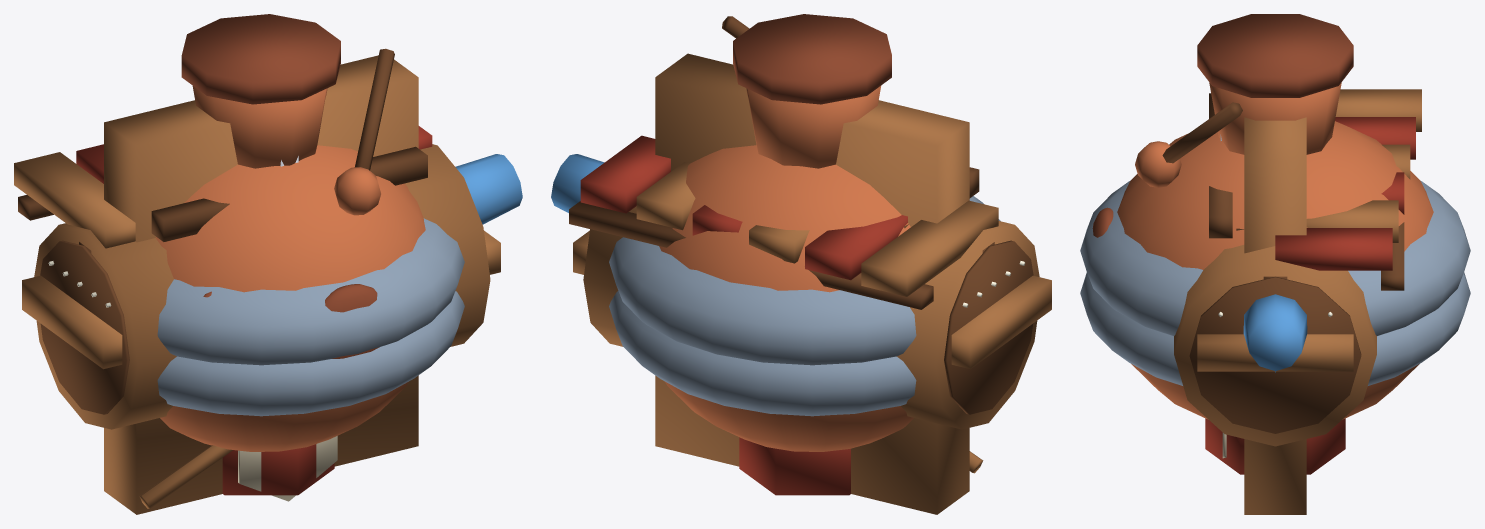
Rendered from InstrumentIcons.fbx.
3 views of the same model, side by side, from view 1: azimuth 30°, elevation 25°; view 2: azimuth 150°, elevation 25°; view 3: azimuth 270°, elevation 25° (orthographic). The views are drawn at different scales.
Visible parts, largest first — view 1: Icon_Udu, Icon_Handpan, Icon_Mbira, Icon_SlitDrum, Icon_Balafon, Icon_Erhu, Icon_Guzheng, Icon_Ocarina; view 2: Icon_Udu, Icon_Handpan, Icon_Mbira, Icon_Balafon, Icon_SlitDrum, Icon_Guzheng, Icon_Erhu, Icon_Ocarina; view 3: Icon_Udu, Icon_SlitDrum, Icon_Handpan, Icon_Mbira, Icon_Balafon, Icon_Guzheng, Icon_Ocarina, Icon_Erhu.
Part boxes in pixels (bbox=[...]): Icon_Udu: bbox=[156, 14, 425, 451]; Icon_Handpan: bbox=[157, 218, 464, 416]; Icon_Mbira: bbox=[104, 55, 427, 514]; Icon_SlitDrum: bbox=[34, 48, 490, 429]; Icon_Balafon: bbox=[14, 126, 432, 252]; Icon_Erhu: bbox=[139, 436, 337, 508]; Icon_Guzheng: bbox=[22, 230, 500, 369]; Icon_Ocarina: bbox=[203, 154, 522, 297]; Icon_Udu: bbox=[659, 14, 913, 451]; Icon_Handpan: bbox=[609, 196, 1000, 416]; Icon_Mbira: bbox=[655, 53, 979, 514]; Icon_Balafon: bbox=[569, 135, 998, 309]; Icon_SlitDrum: bbox=[583, 16, 1039, 429]; Icon_Guzheng: bbox=[573, 230, 1051, 369]; Icon_Erhu: bbox=[739, 437, 983, 495]; Icon_Ocarina: bbox=[551, 154, 604, 212]; Icon_Udu: bbox=[1092, 14, 1433, 419]; Icon_SlitDrum: bbox=[1135, 102, 1376, 446]; Icon_Handpan: bbox=[1080, 180, 1470, 385]; Icon_Mbira: bbox=[1209, 93, 1306, 514]; Icon_Balafon: bbox=[1263, 89, 1421, 290]; Icon_Guzheng: bbox=[1197, 312, 1353, 371]; Icon_Ocarina: bbox=[1243, 294, 1307, 372]; Icon_Erhu: bbox=[1205, 418, 1345, 474].
Size of the model in its own units: 0.1275 by 0.1175 by 0.1.
